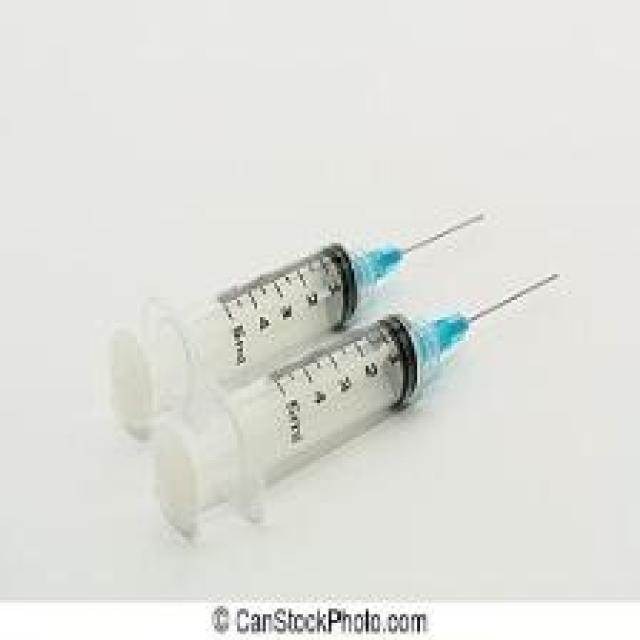syringe: (103, 202, 566, 532)
